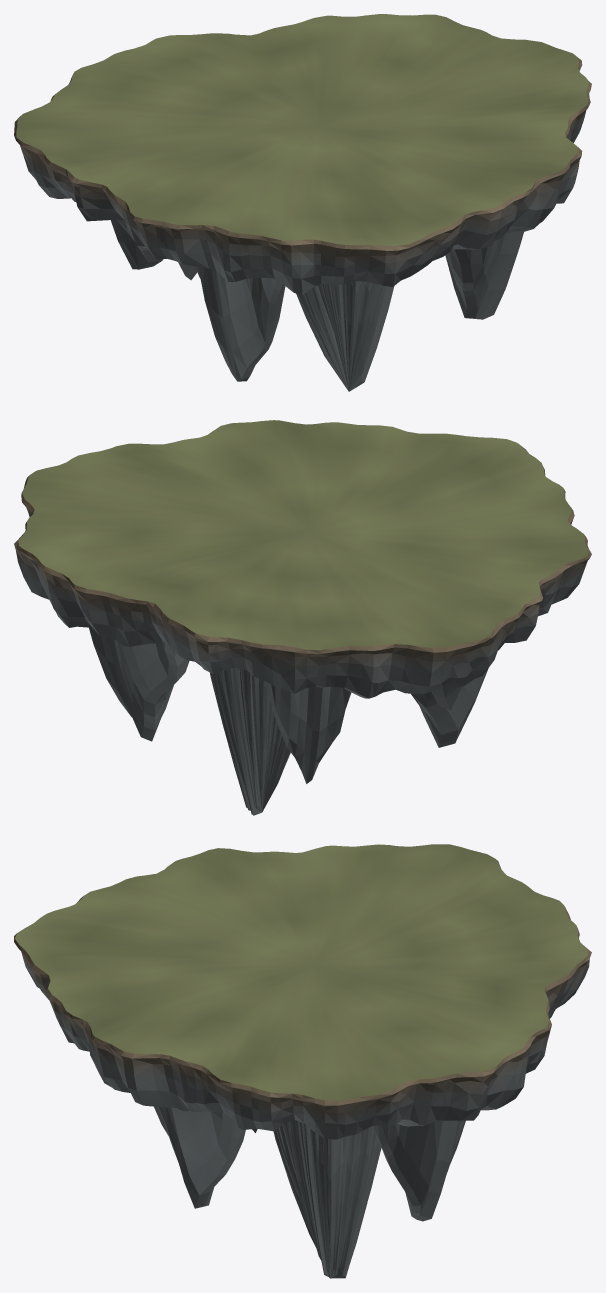
The model's file is asteroid-v01.glb.
3 views of the same model, one above another, from view 1: azimuth 30°, elevation 25°; view 2: azimuth 150°, elevation 25°; view 3: azimuth 270°, elevation 25° (orthographic). The views are drawn at different scales.
Visible parts, largest first — view 1: Asteroid_Surface, Asteroid_Rock; view 2: Asteroid_Surface, Asteroid_Rock; view 3: Asteroid_Surface, Asteroid_Rock.
Part boxes in pixels (x1,y1,x2,y2): Asteroid_Surface: (16, 14, 588, 245); Asteroid_Rock: (14, 58, 591, 391); Asteroid_Surface: (18, 420, 588, 650); Asteroid_Rock: (14, 444, 591, 815); Asteroid_Surface: (15, 844, 587, 1100); Asteroid_Rock: (14, 860, 591, 1278).
Size of the model in its own units: 104 by 55 by 98.22.
